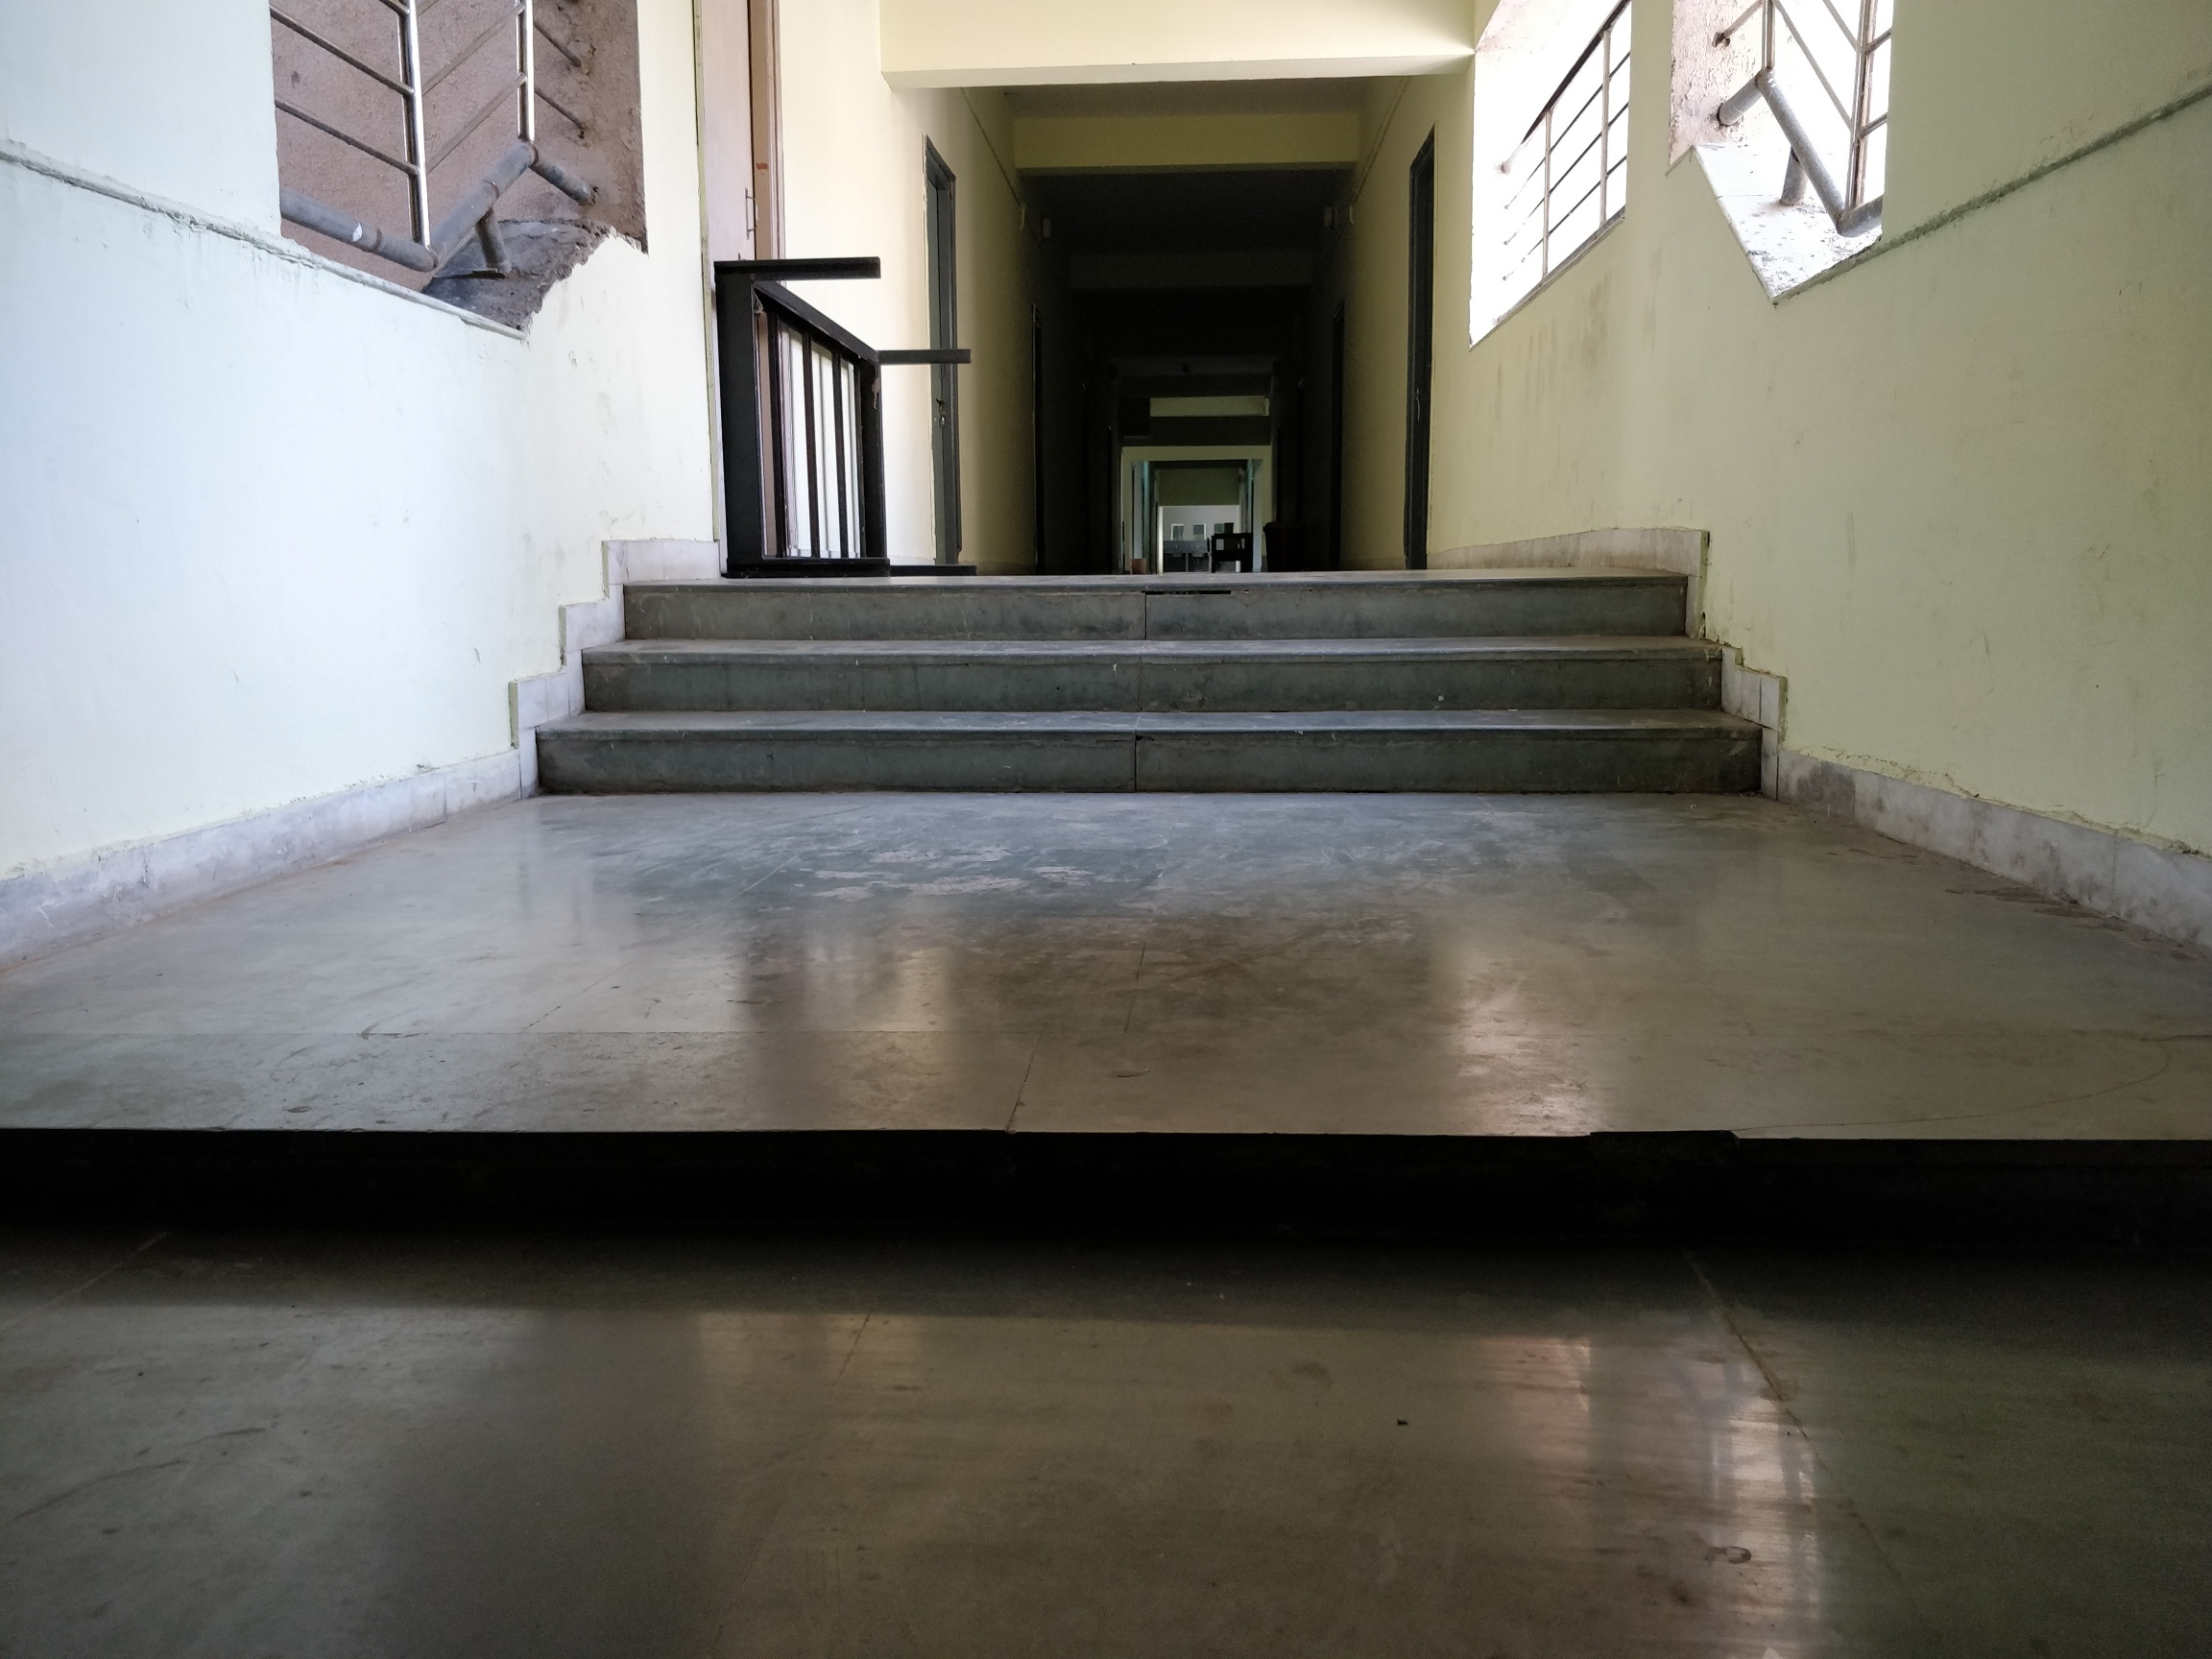stairs_up: (536, 587, 1768, 821)
